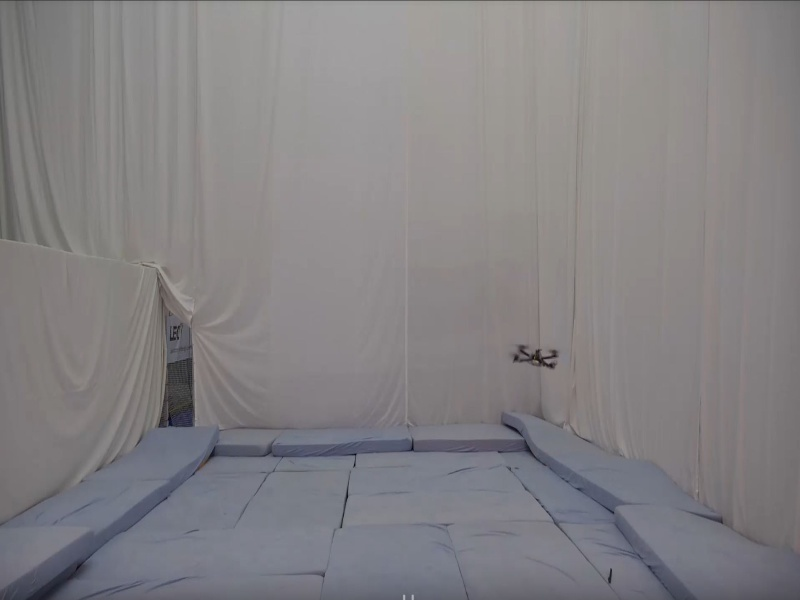drone: (506, 338, 559, 372)
